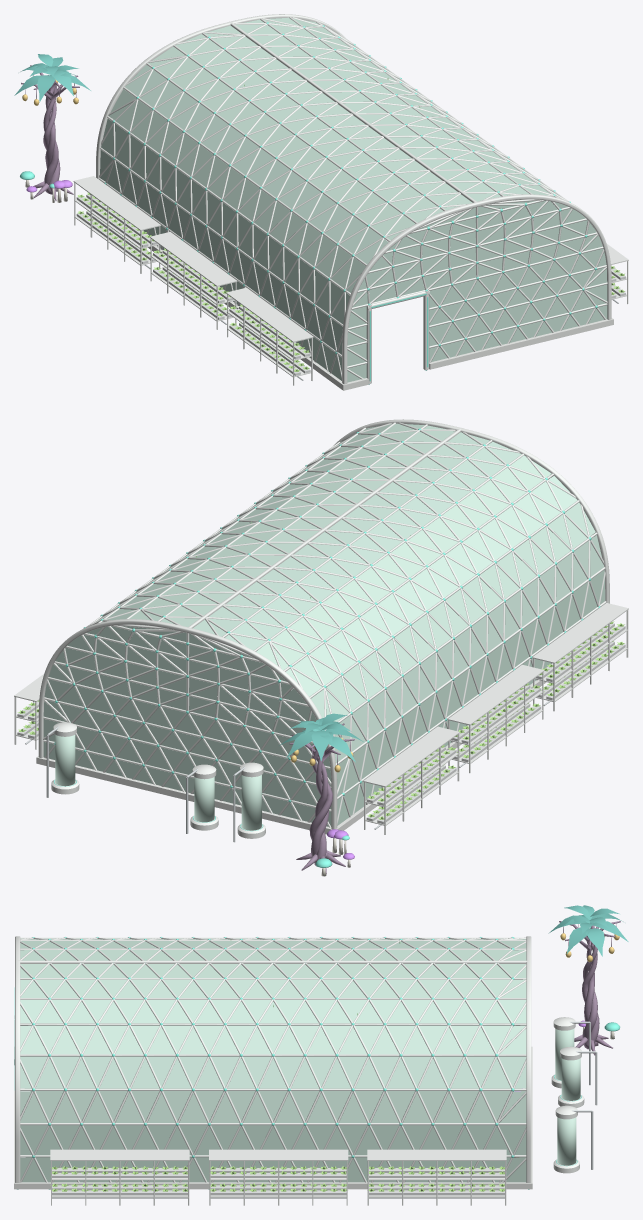
The model's file is BiodomeLabCage.fbx.
3 renders of one model, top to bottom at view 1: azimuth 30°, elevation 25°; view 2: azimuth 150°, elevation 25°; view 3: azimuth 270°, elevation 25°, orthographic. The views are drawn at different scales.
Visible parts, largest first — view 1: BioGlass, BioFrame, BioRacks, BioFrameSolid, BioTroughs, BioLettuce, BioBeds, BioTreeTrunk, BioNodes, BioTreeLeaves; view 2: BioGlass, BioFrame, BioRacks, BioFrameSolid, BioTroughs, BioTubeGlass, BioLettuce, BioBeds, BioTreeTrunk, BioNodes, BioTower, BioTreeLeaves (+1 smaller); view 3: BioGlass, BioFrame, BioRacks, BioTroughs, BioFrameSolid, BioLettuce, BioBeds, BioTubeGlass, BioTreeTrunk, BioTreeLeaves, BioPipes, BioTower (+1 smaller).
Part boxes in pixels (<box>): BioGlass: <box>100,17,607,382</box>; BioFrame: <box>99,17,607,379</box>; BioRacks: <box>73,176,628,385</box>; BioFrameSolid: <box>96,14,611,384</box>; BioTroughs: <box>76,194,625,375</box>; BioLettuce: <box>77,192,625,371</box>; BioBeds: <box>148,245,613,390</box>; BioTreeTrunk: <box>21,65,79,200</box>; BioNodes: <box>104,22,597,384</box>; BioTreeLeaves: <box>14,54,90,101</box>; BioGlass: <box>43,423,605,826</box>; BioFrame: <box>43,422,606,827</box>; BioRacks: <box>14,603,628,834</box>; BioFrameSolid: <box>38,419,609,829</box>; BioTroughs: <box>17,623,625,824</box>; BioTubeGlass: <box>55,734,261,830</box>; BioLettuce: <box>17,621,624,819</box>; BioBeds: <box>36,680,546,834</box>; BioTreeTrunk: <box>289,723,354,873</box>; BioNodes: <box>54,428,600,802</box>; BioTower: <box>51,722,265,838</box>; BioTreeLeaves: <box>279,713,363,762</box>; BioGlass: <box>20,938,526,1182</box>; BioFrame: <box>20,937,526,1182</box>; BioRacks: <box>50,1149,506,1205</box>; BioTroughs: <box>52,1168,504,1195</box>; BioFrameSolid: <box>15,936,531,1182</box>; BioLettuce: <box>50,1166,504,1191</box>; BioBeds: <box>14,1046,532,1189</box>; BioTubeGlass: <box>555,1029,580,1165</box>; BioTreeTrunk: <box>559,921,620,1055</box>; BioTreeLeaves: <box>548,905,628,956</box>; BioPipes: <box>52,1021,597,1198</box>; BioTower: <box>551,1017,584,1173</box>.
Size of the model in its own units: 999 by 423 by 1456.
